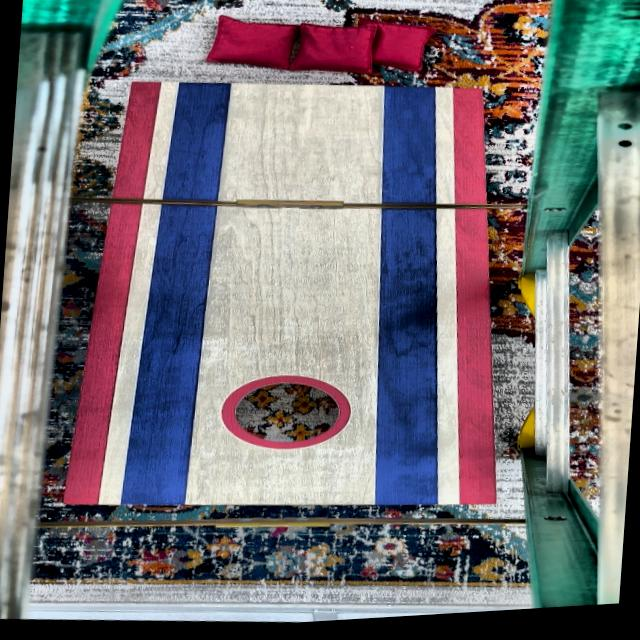board: (102, 71, 478, 526)
hole: (216, 371, 352, 460)
red-bean-bag: (202, 14, 299, 77), (286, 22, 378, 83), (354, 18, 438, 81)
